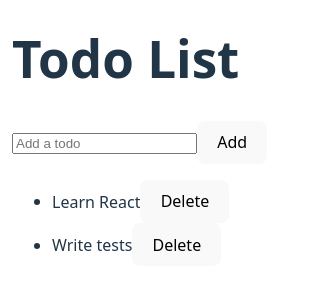
TodoList Component › can add a new todo
The image size is (332, 294).
Step 1. Type "New Todo" into the field with placeholder "Add a todo" → (104, 144), box [12,133,197,154]
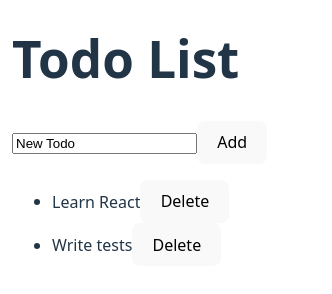
Step 2. Click the button "Add" → (232, 142), box [197,121,267,164]
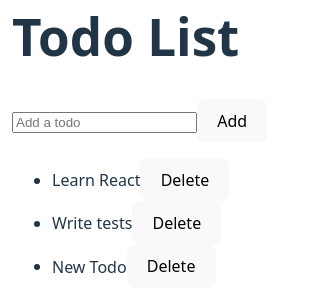
expect the list item "New Todo" is shown: met, box [52,255,127,277]
expect the field with placeholder "Add a todo" is empty: met, box [12,112,197,133]
